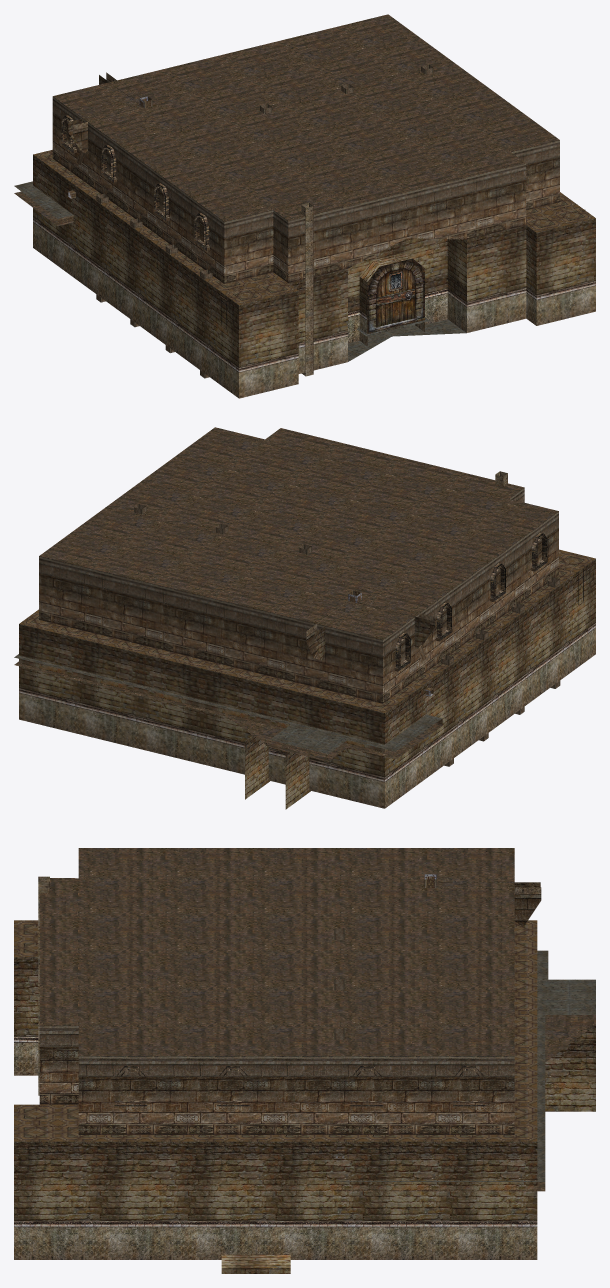
Rendered from ph_ghi00.glb.
3 renders of one model, top to bottom at view 1: azimuth 30°, elevation 25°; view 2: azimuth 150°, elevation 25°; view 3: azimuth 270°, elevation 25°, orthographic. The views are drawn at different scales.
Visible parts, largest first — view 1: ph_ghi00; view 2: ph_ghi00; view 3: ph_ghi00.
Boxes of the visible parts, <box> form: ph_ghi00: <box>14,14,595,398</box>; ph_ghi00: <box>14,427,595,809</box>; ph_ghi00: <box>14,848,595,1273</box>.
Bounding box in the file's own units: 19.87 × 9.45 × 20.02.
10 materials, 10 textured.
